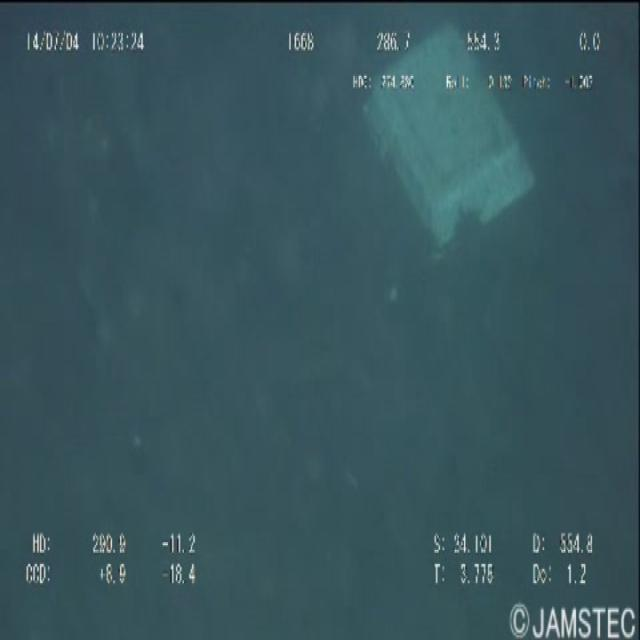Cutlery: (355, 1, 551, 258)
